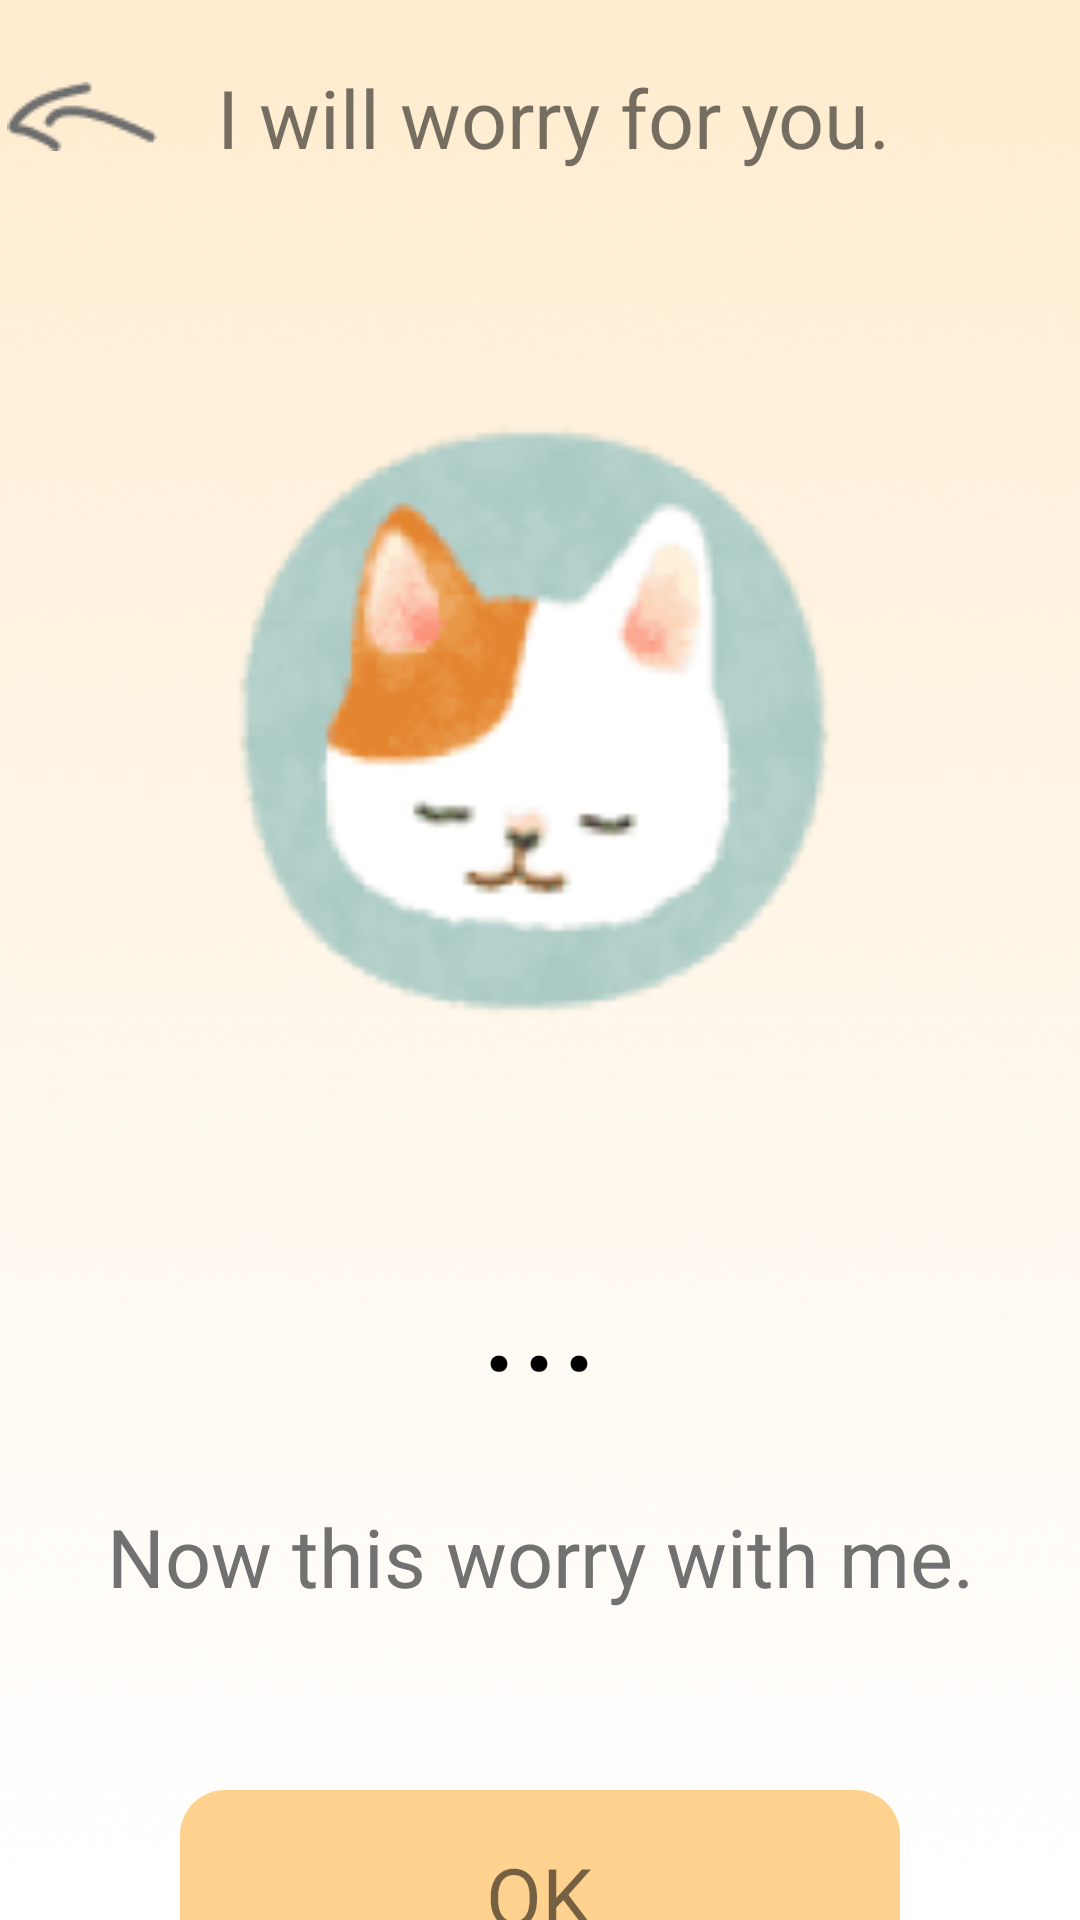

Icon bounding boxes for this 1080x1920 phone screenshot, format (x1, y1, x2, y2):
back: (7, 82, 157, 151)
